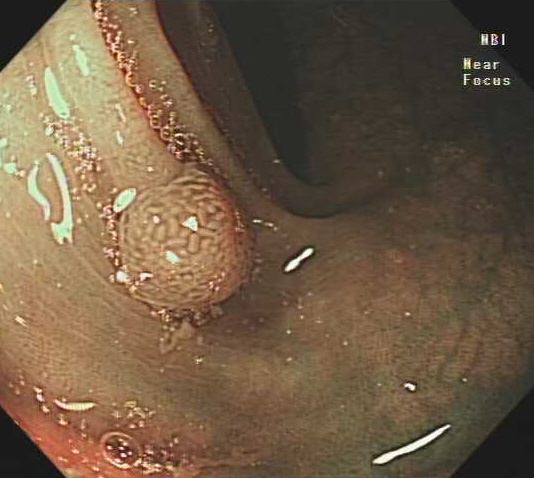adenoma: (106, 167, 257, 313)
